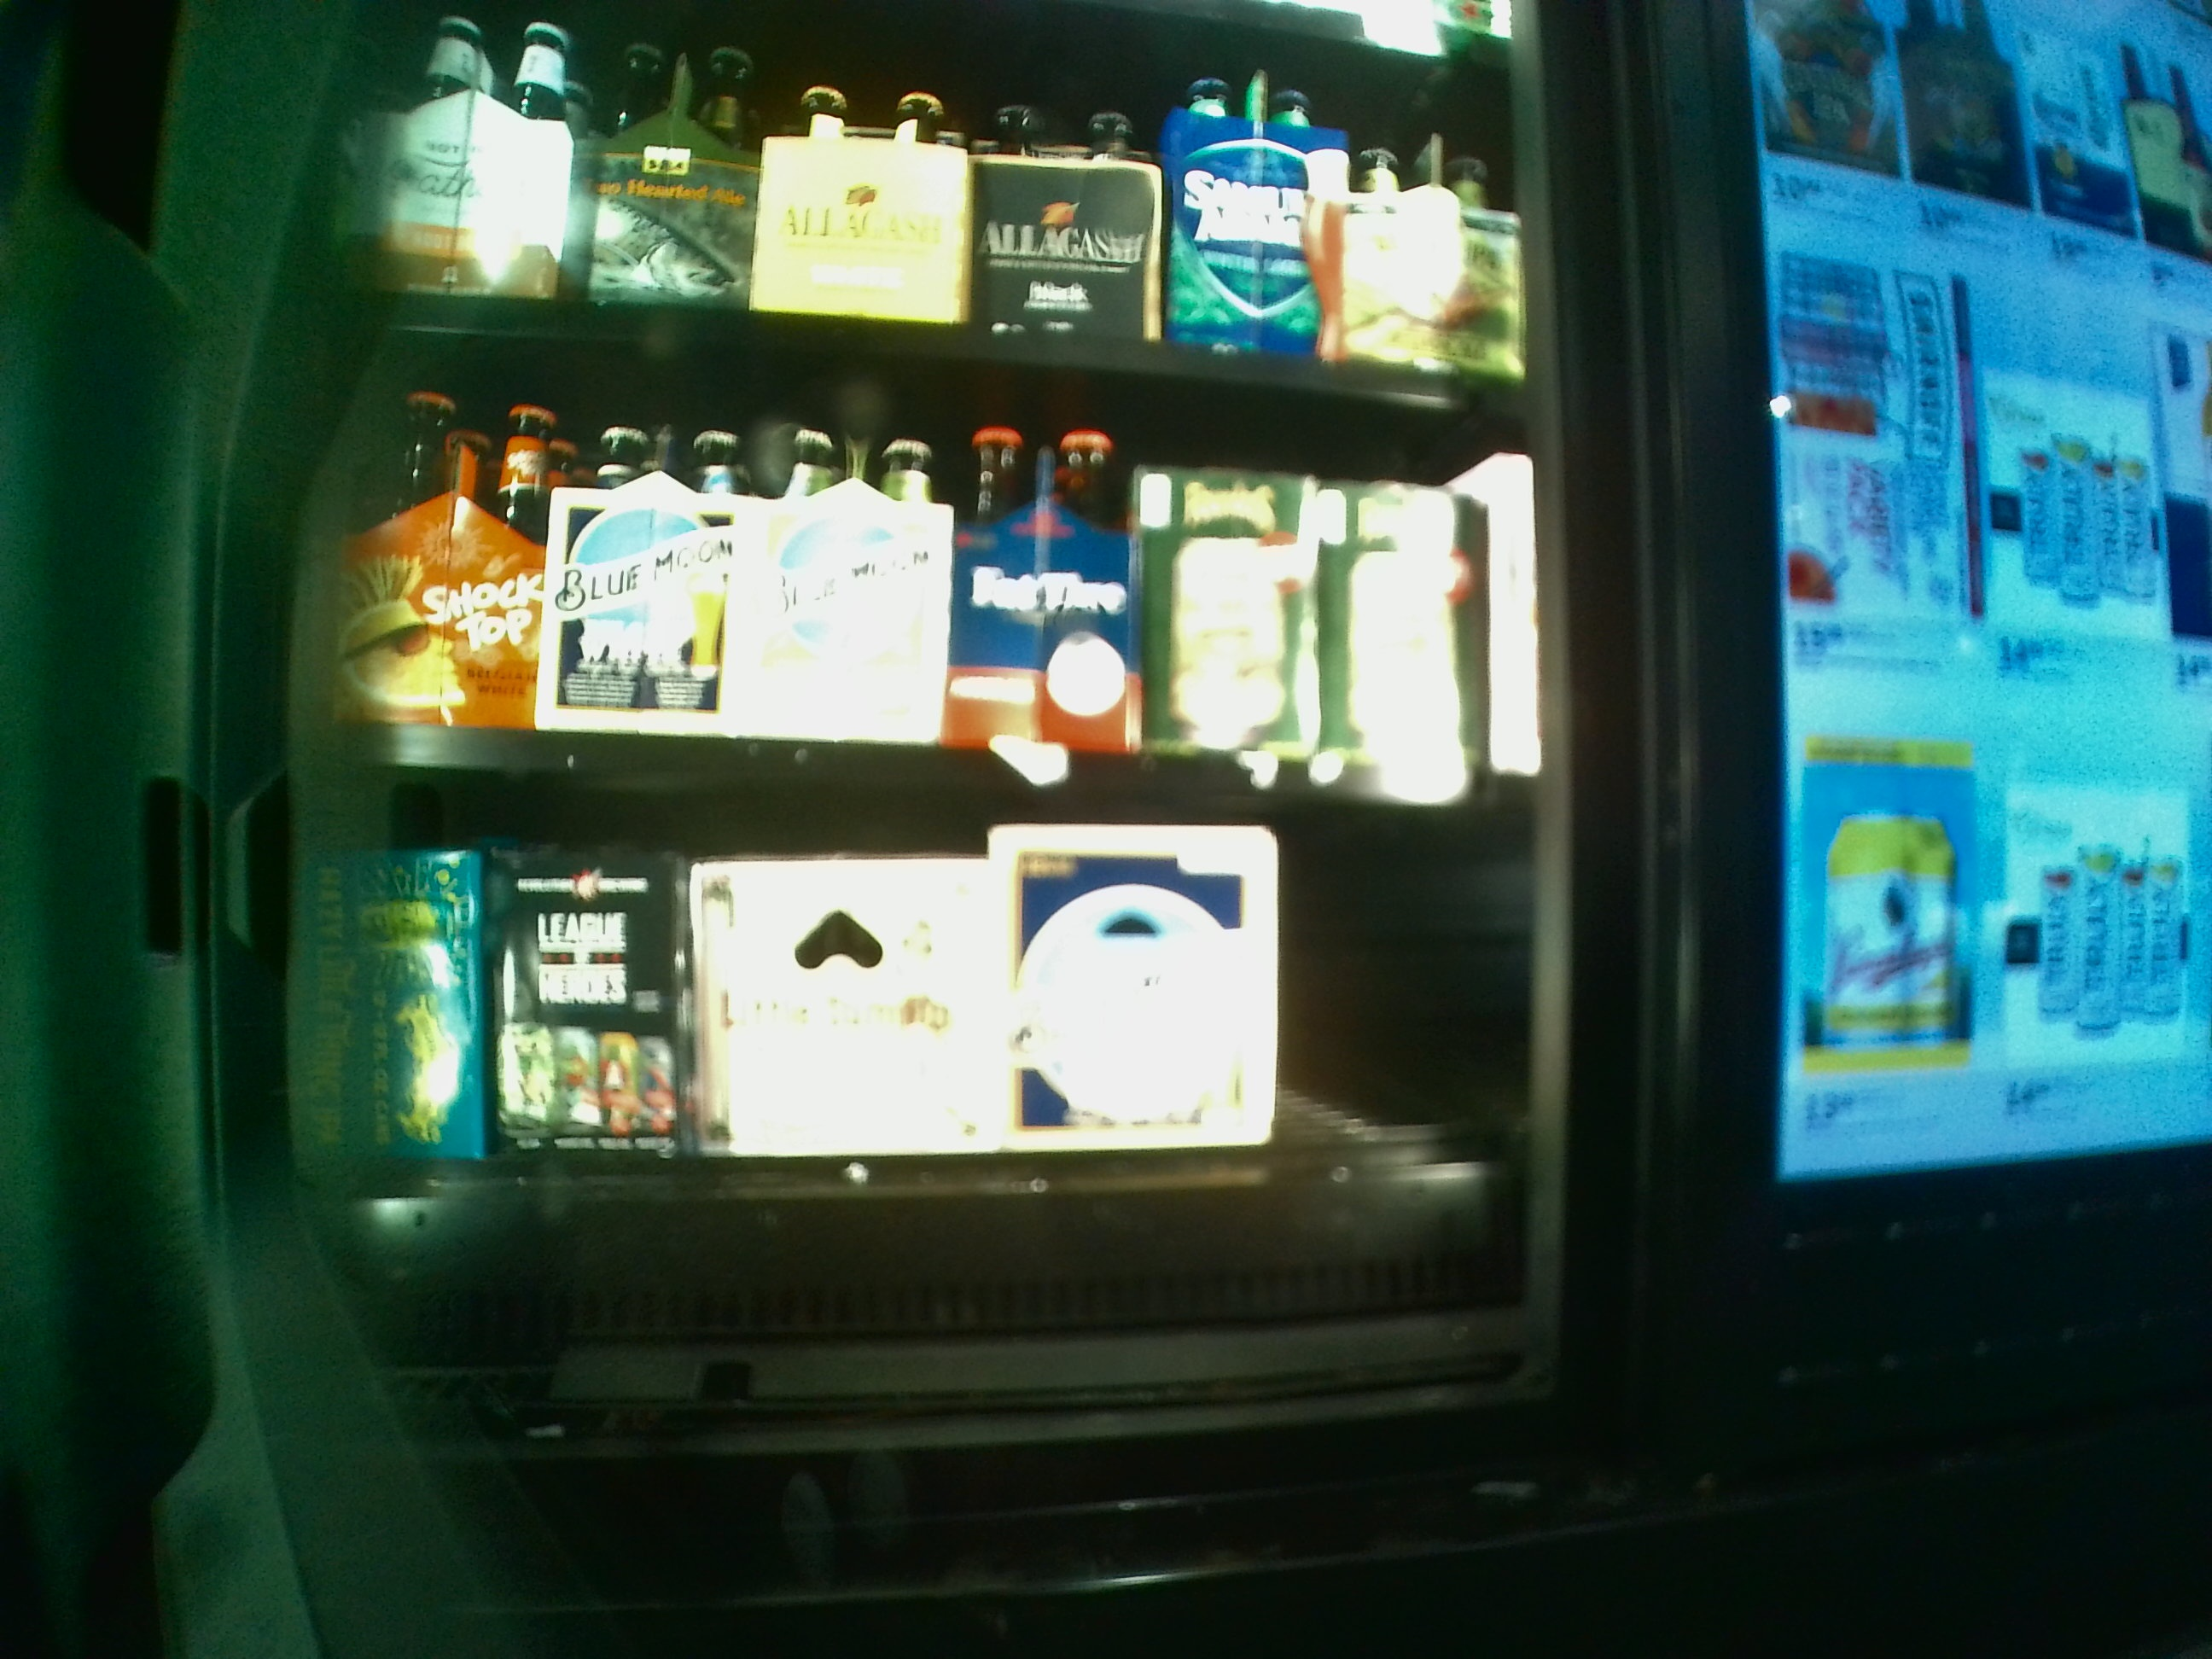shelf: (314, 819, 1526, 1384), (315, 336, 1531, 807)
